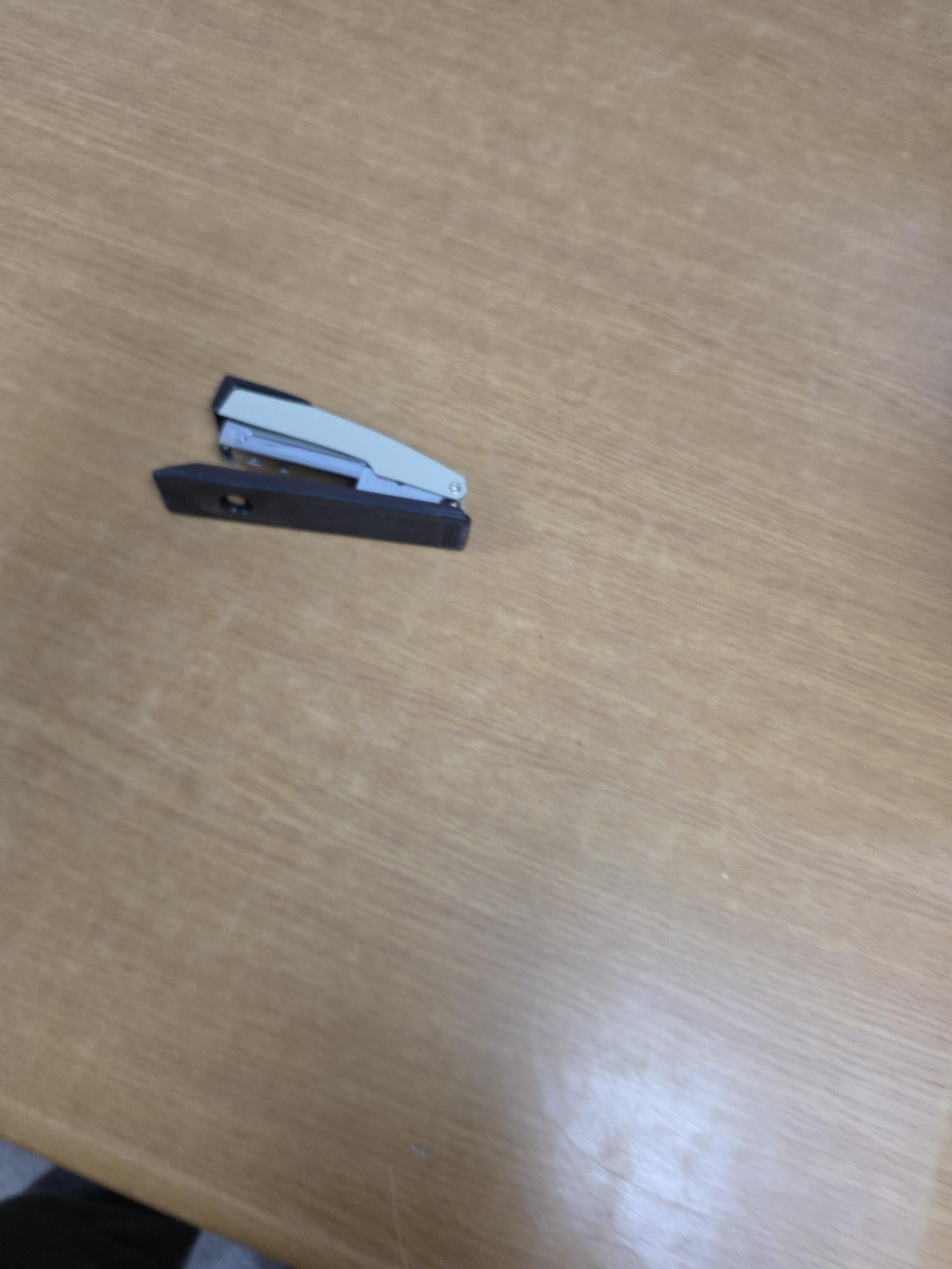stapler: (151, 375, 472, 551)
